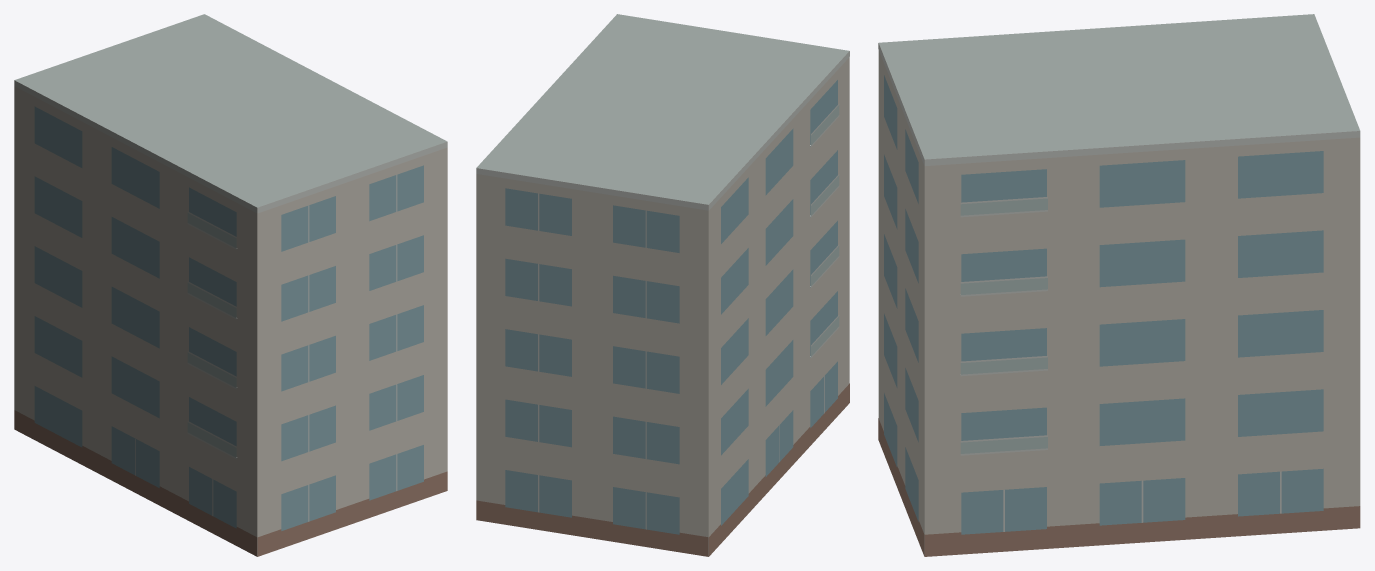
Rendered from survey-upis-32523888.glb.
3 renders of one model, left to right at view 1: azimuth 30°, elevation 25°; view 2: azimuth 150°, elevation 25°; view 3: azimuth 270°, elevation 25°, orthographic. The views are drawn at different scales.
Parts seen in each view (by area): view 1: survey-upis-32523888.tmp; view 2: survey-upis-32523888.tmp; view 3: survey-upis-32523888.tmp.
Part boxes in pixels (left/top/right/bottom): survey-upis-32523888.tmp: left=14, top=14, right=447, bottom=556; survey-upis-32523888.tmp: left=476, top=14, right=849, bottom=556; survey-upis-32523888.tmp: left=878, top=14, right=1360, bottom=556.
Bounding box in the file's own units: 11.48 × 14.6 × 16.06.
